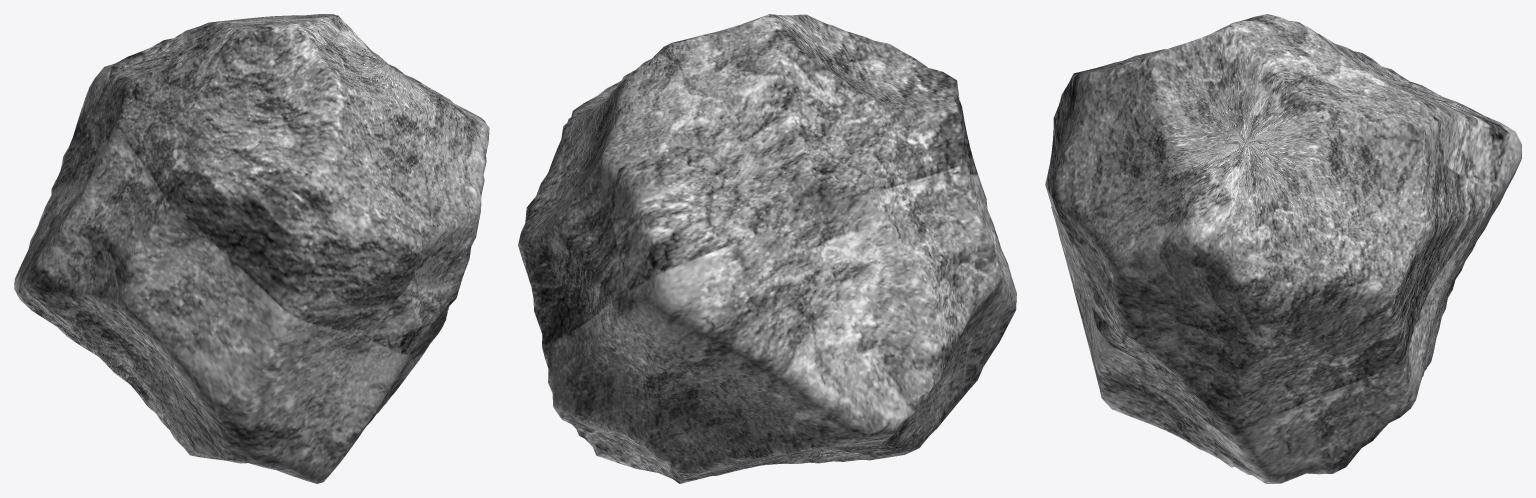
The model's file is grå sten.fbx.
3 renders of one model, left to right at view 1: azimuth 30°, elevation 25°; view 2: azimuth 150°, elevation 25°; view 3: azimuth 270°, elevation 25°, orthographic. The views are drawn at different scales.
Parts seen in each view (by area): view 1: GeoSphere001; view 2: GeoSphere001; view 3: GeoSphere001.
Part boxes in pixels (x1,y1,x2,y2): GeoSphere001: (14,14,489,483); GeoSphere001: (518,14,1016,483); GeoSphere001: (1045,14,1521,483).
Bounding box in the file's own units: 90.75 × 87.66 × 94.09.
